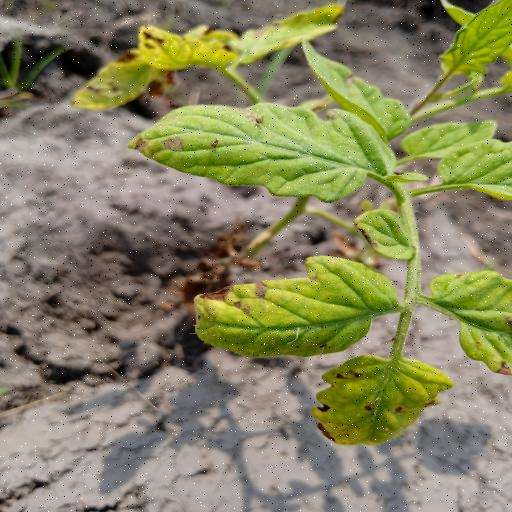Tomato_Brown_Spots: (135, 100, 391, 207), (190, 249, 409, 366), (303, 358, 458, 452)
